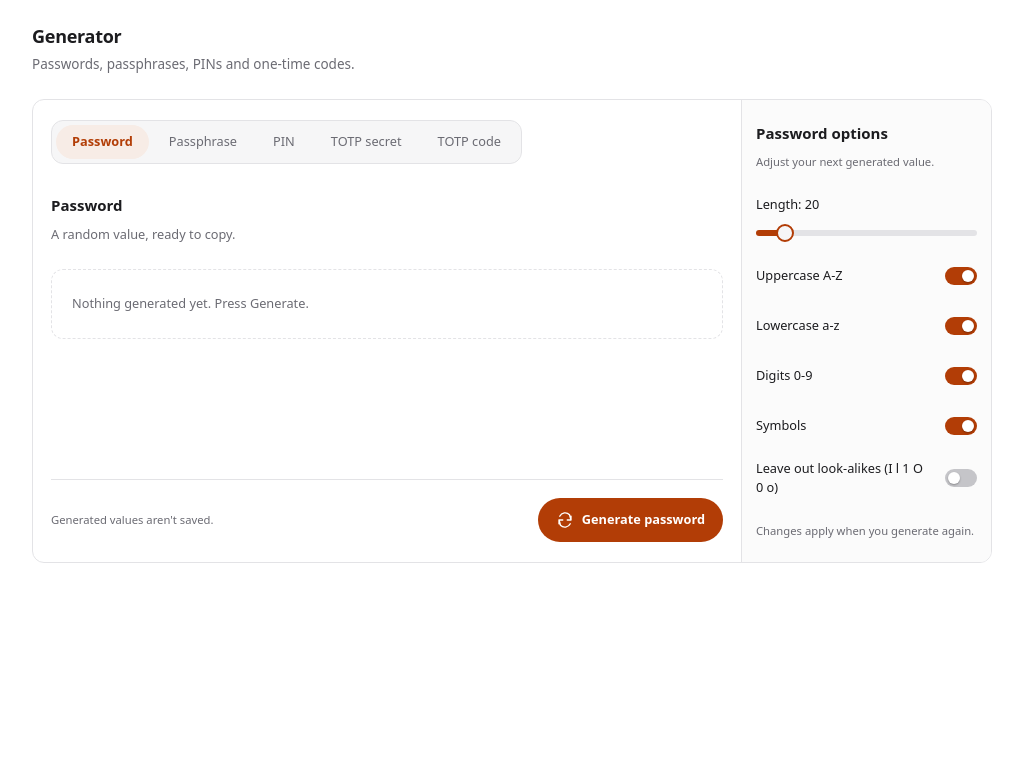
GeneratorView › makes a password when Generate is pressed, hidden until Reveal, with its strength
Submit the form, box [32,99,992,563]
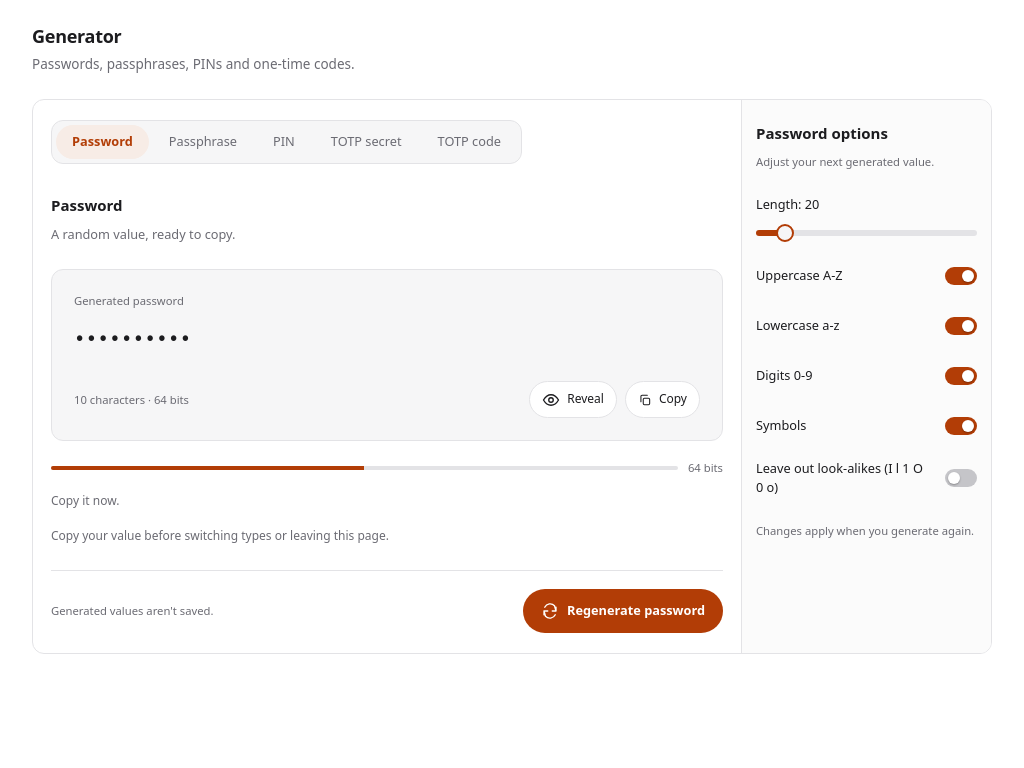
Click the button "Reveal" at (573, 400), box [529,381,617,418]
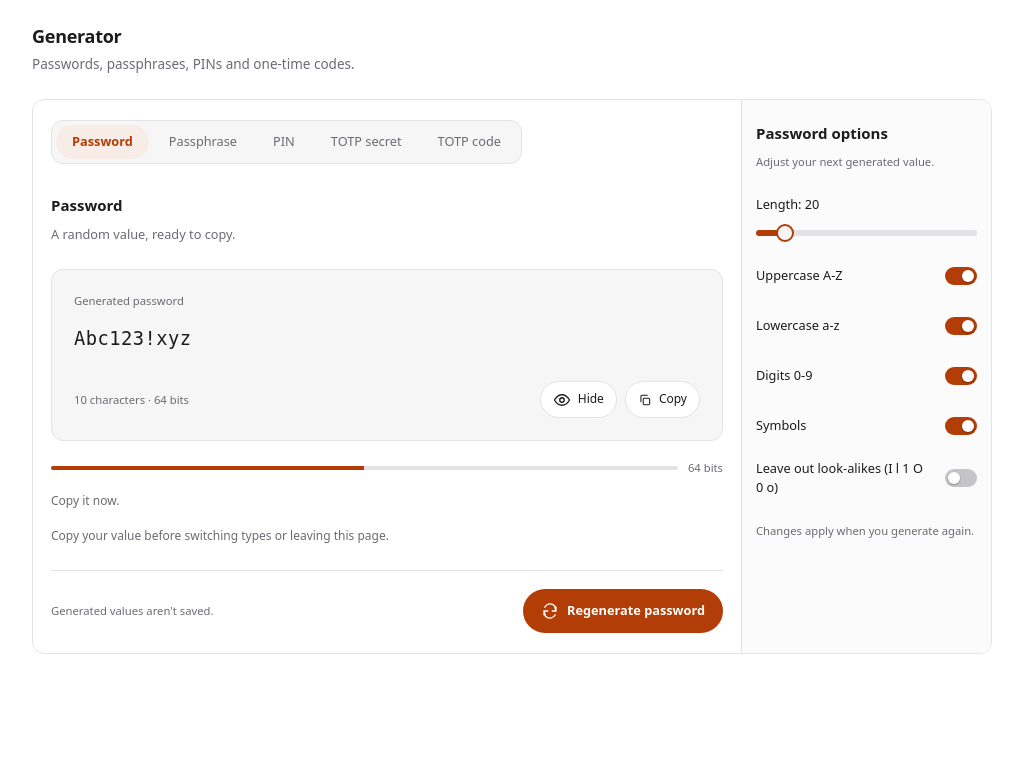
Expected: the text with test id "generated-value" reads "Abc123!xyz", [74,328,192,349]
Click the button "Hide" at (578, 400), box [540,381,617,418]
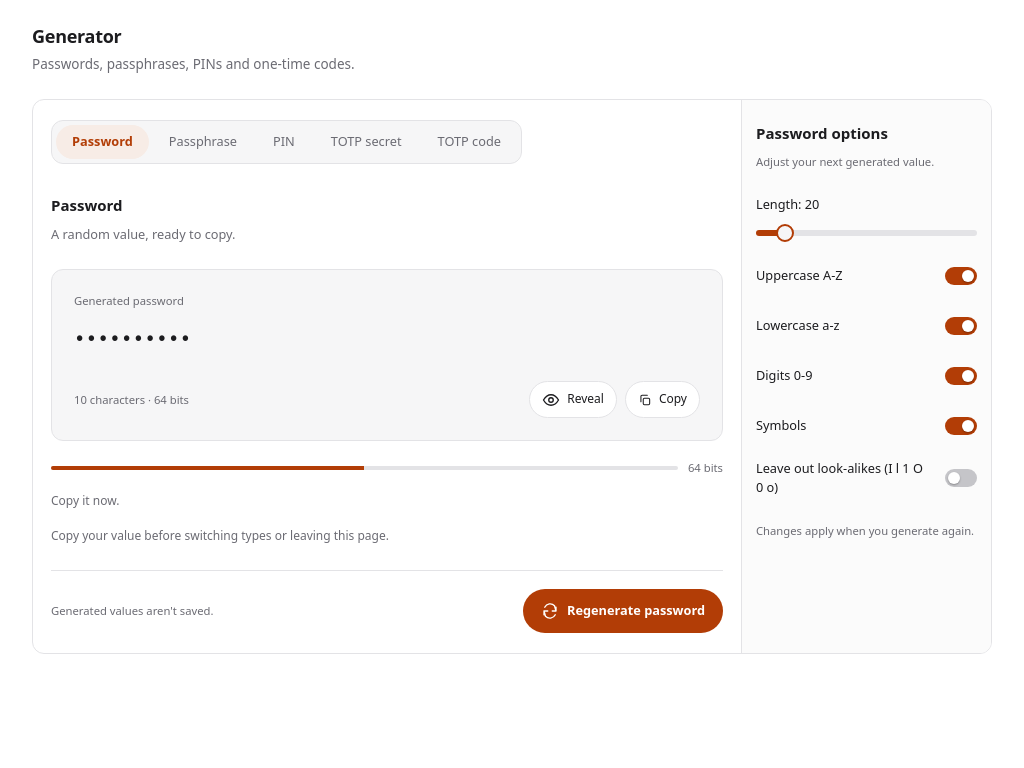
Expected: the text with test id "generated-value" no longer shows "Abc"
